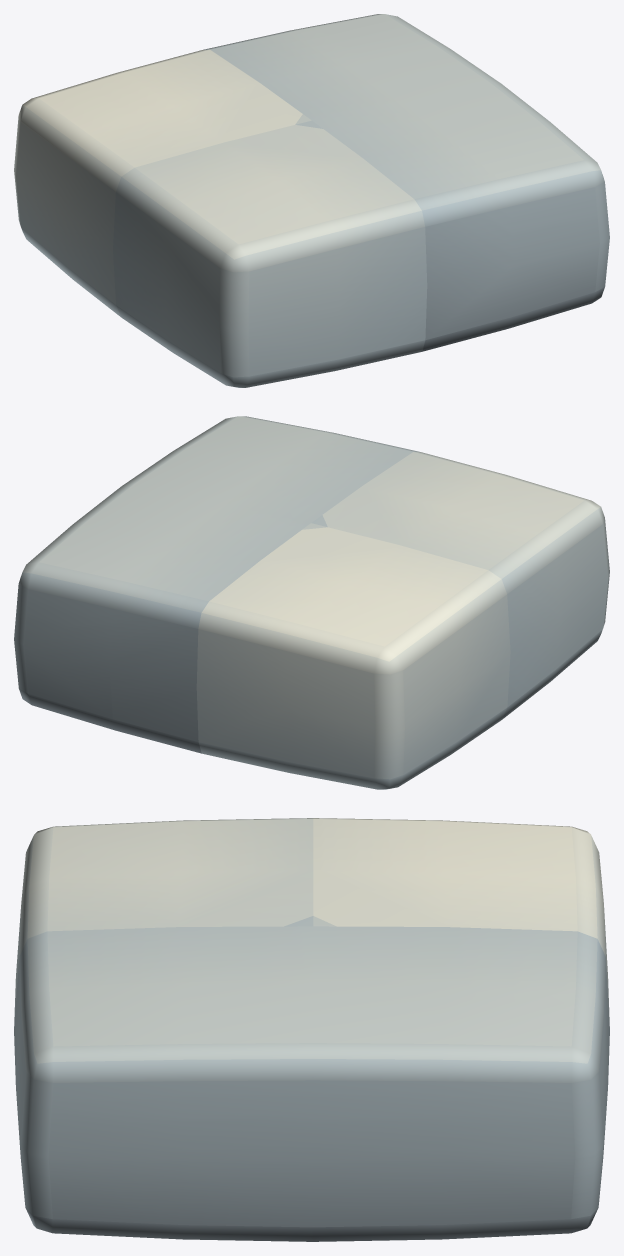
The model's file is Quartz_2x2_Slab.fbx.
The picture shows the model from 3 angles, top to bottom: view 1: azimuth 30°, elevation 25°; view 2: azimuth 150°, elevation 25°; view 3: azimuth 270°, elevation 25°; orthographic projection. The views are drawn at different scales.
Visible parts, largest first — view 1: Quartz_2x2_Slab_LOD0; view 2: Quartz_2x2_Slab_LOD0; view 3: Quartz_2x2_Slab_LOD0.
Part boxes in pixels (box(x1,y1,x2,y2)): Quartz_2x2_Slab_LOD0: box(14, 14, 609, 387); Quartz_2x2_Slab_LOD0: box(14, 416, 609, 789); Quartz_2x2_Slab_LOD0: box(14, 818, 609, 1241).
Size of what is drawn, in the model's own units: 1.08 by 0.4168 by 1.08.
